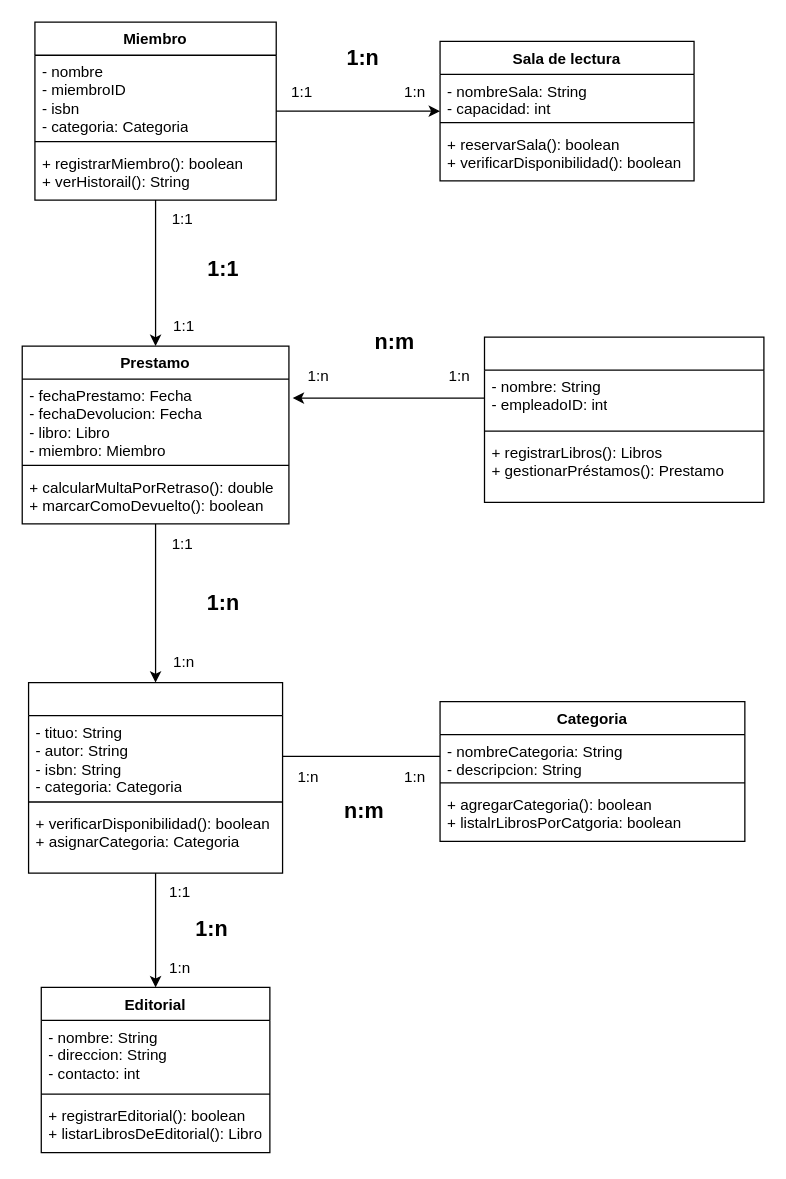
This 786x1179 diagram has some shape labels left out. The box of each missing label's shape, as (x1, y1, x2, y2) in pixels:
Bibliotecario: (483, 336, 764, 502)
Libro: (27, 681, 283, 873)
